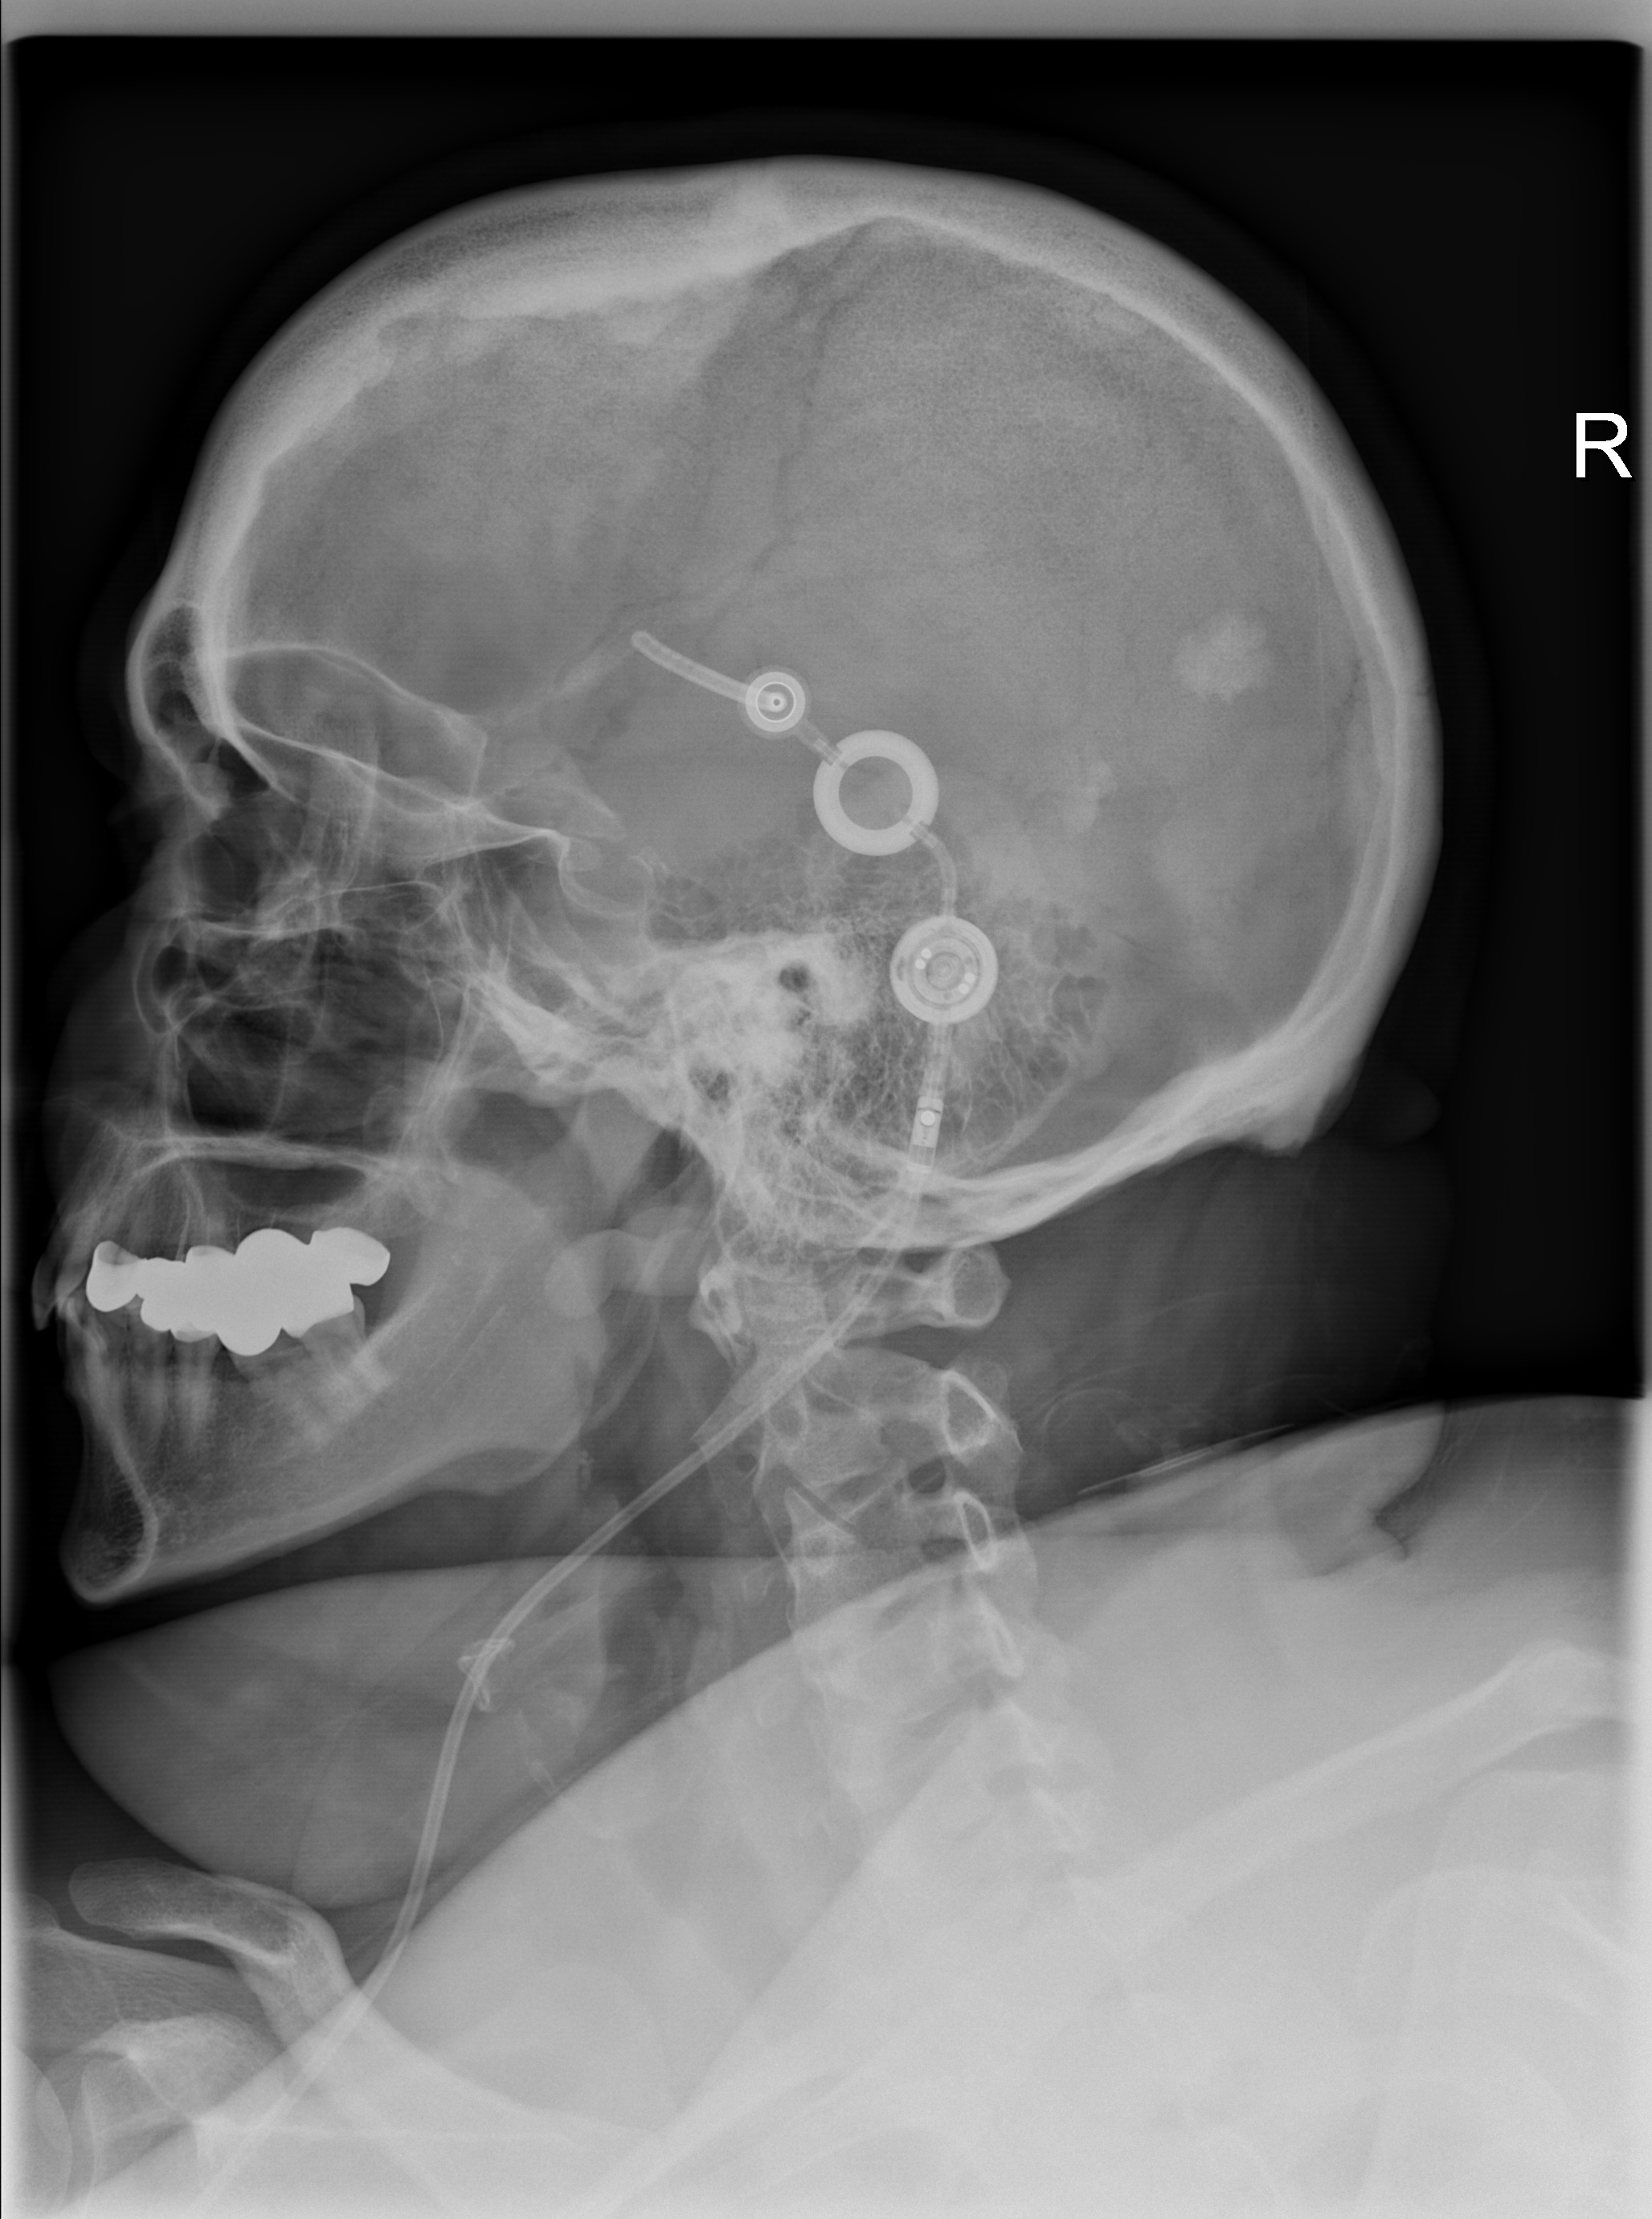proGAV 2.0: (883, 907, 1003, 1029)
proGAV Gravitationseinheit: (899, 1060, 953, 1187)
